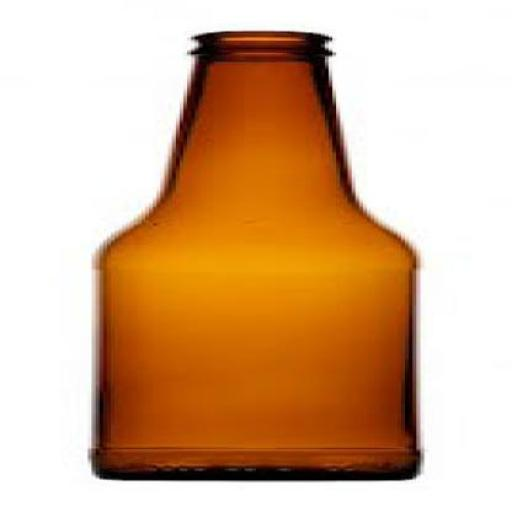glass: (92, 30, 420, 480)
